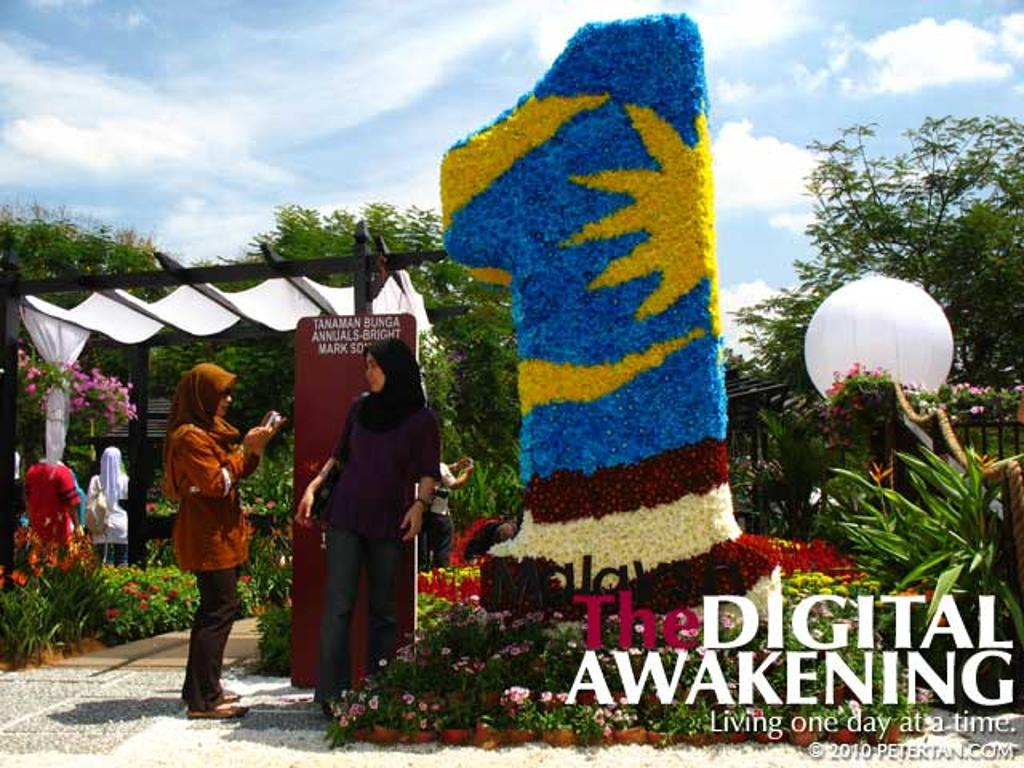face: (205, 379, 231, 416), (364, 353, 387, 392)
